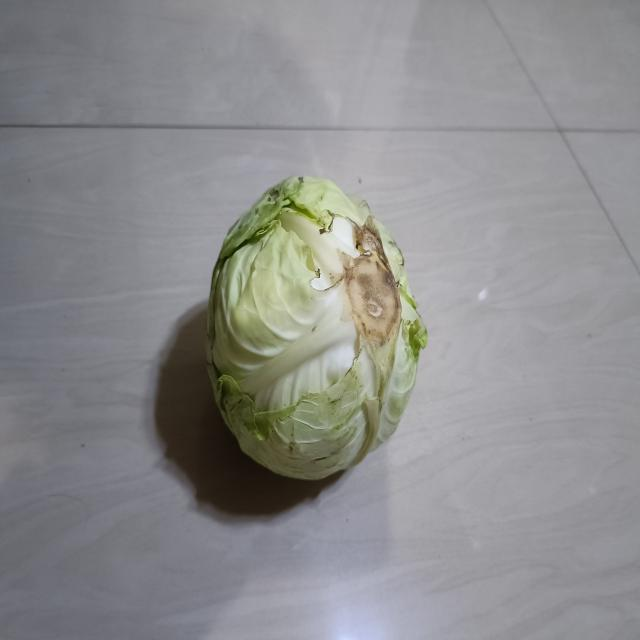cabbage: (206, 171, 424, 483)
